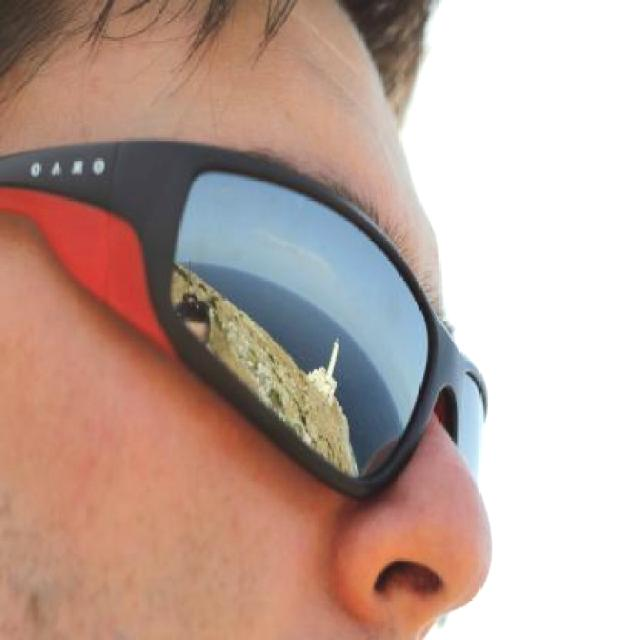glasses: (0, 137, 493, 496)
